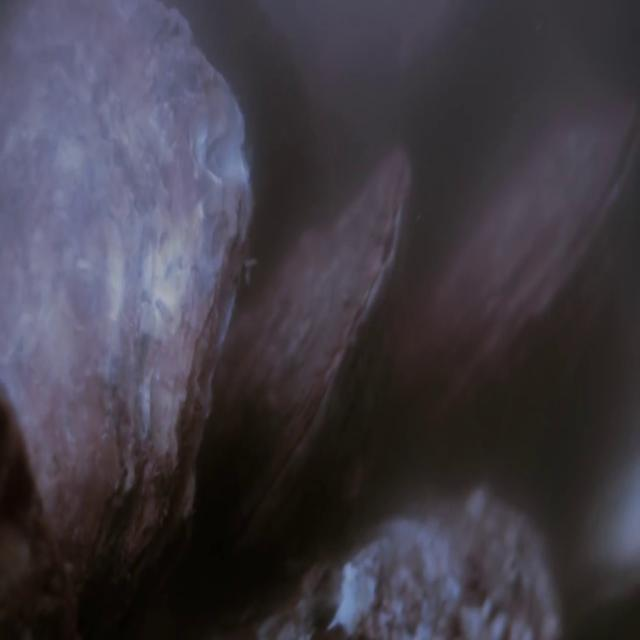Oyster-Closed: (375, 90, 640, 432), (209, 138, 418, 554)
Oyster-Indeterminate: (2, 5, 261, 586), (267, 483, 569, 632)
